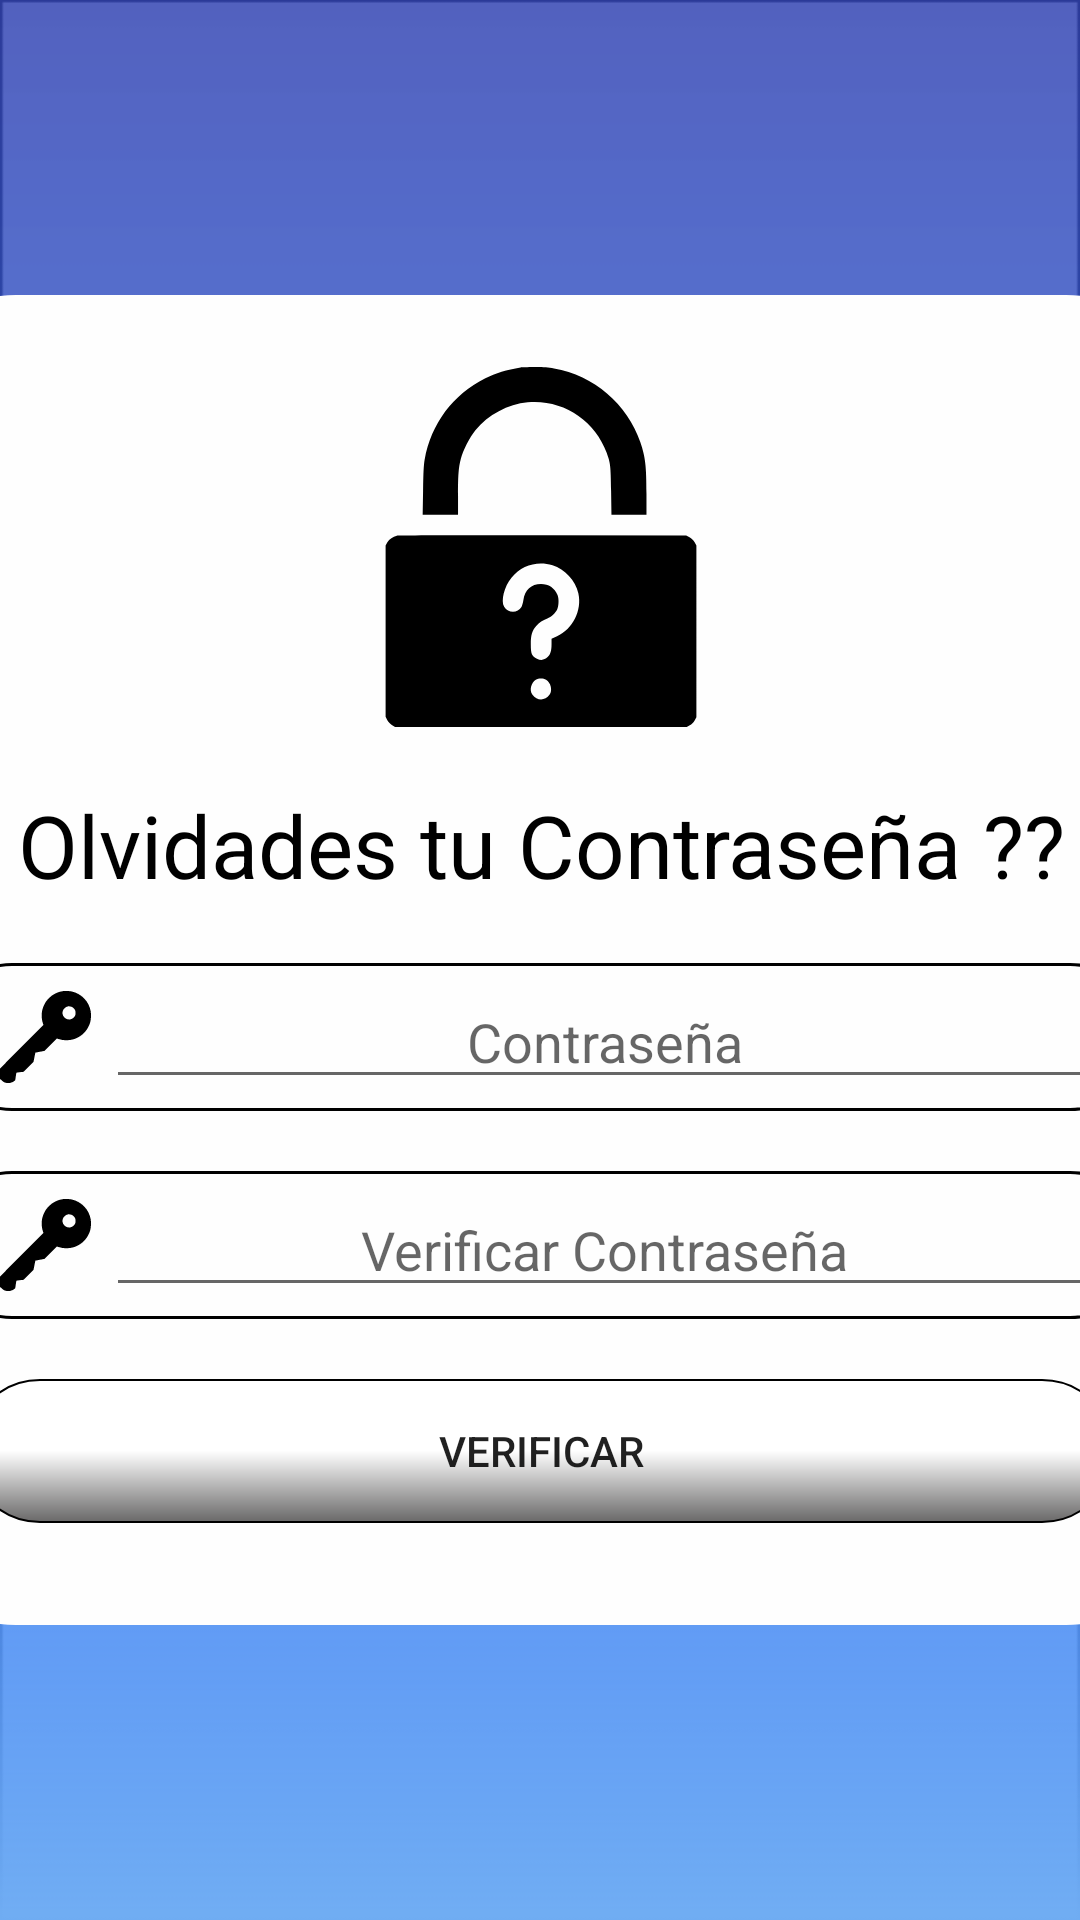

Icons on this 1080w x 1920h Android screen, each with the point to tap as point (x, y):
bloquear: point (541, 547)
key: point (45, 1037), point (45, 1245)
